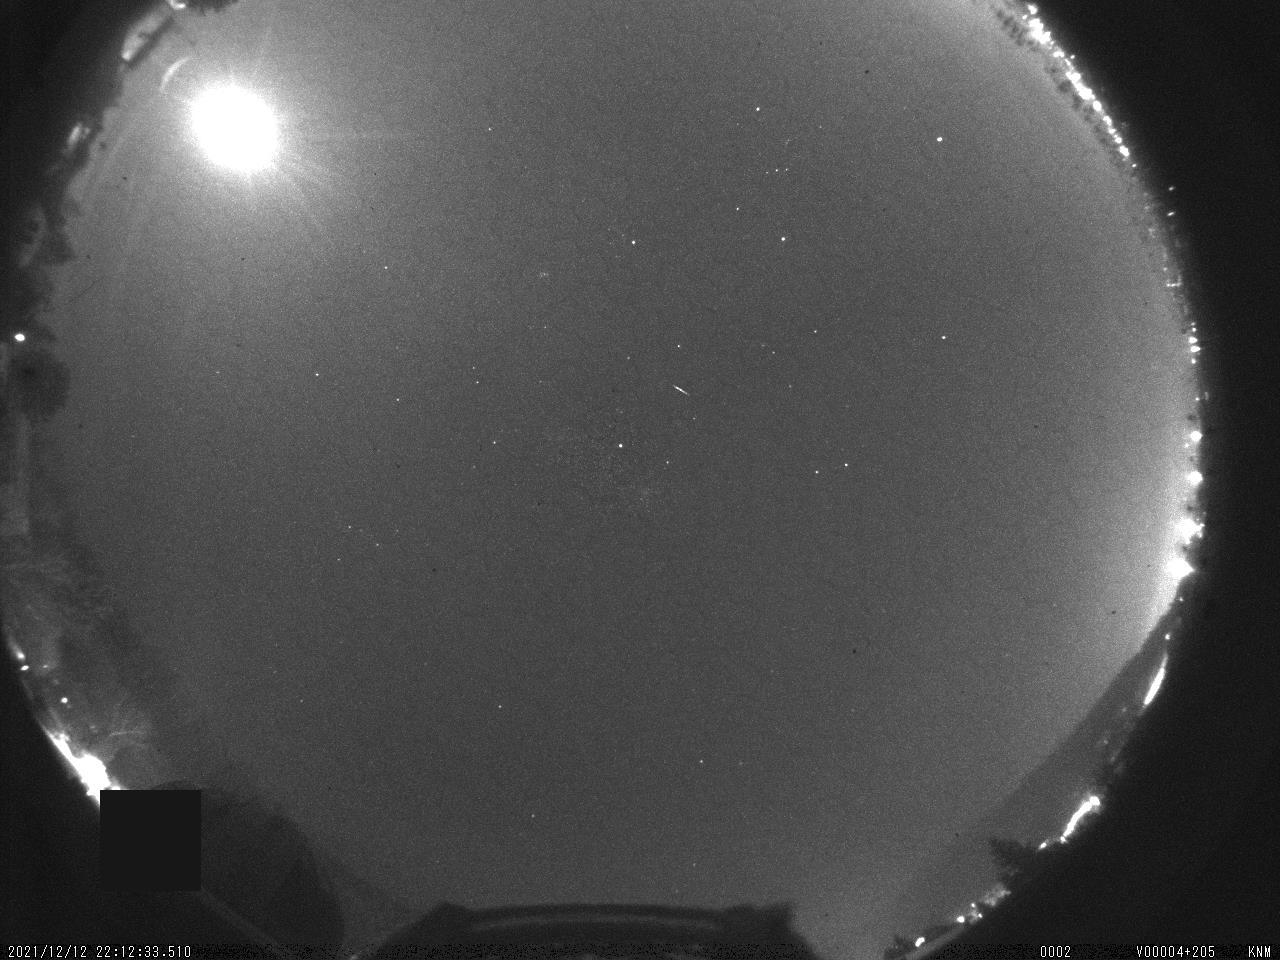meteor: (661, 380, 702, 405)
